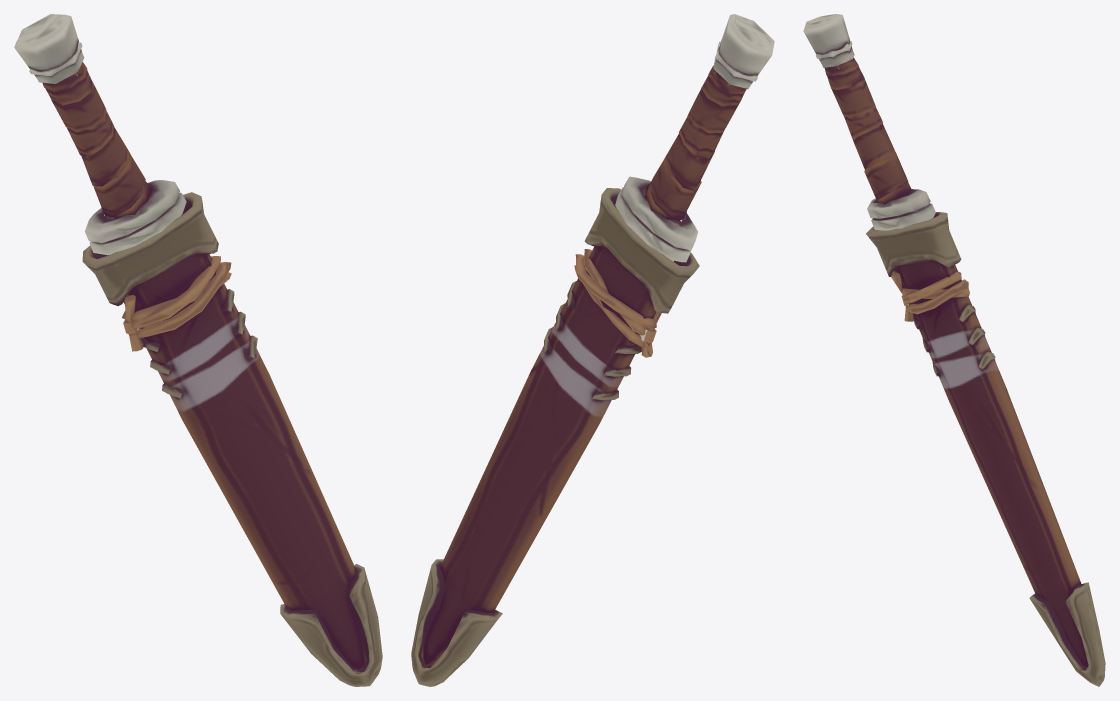
The model's file is Link_Sword.fbx.
3 views of the same model, side by side, from view 1: azimuth 30°, elevation 25°; view 2: azimuth 150°, elevation 25°; view 3: azimuth 330°, elevation 25° (orthographic). The views are drawn at different scales.
Parts seen in each view (by area): view 1: Travelers_sword_Travlers sword_0; view 2: Travelers_sword_Travlers sword_0; view 3: Travelers_sword_Travlers sword_0.
Boxes of the visible parts, x1,y1,x2,y2 form: Travelers_sword_Travlers sword_0: [14, 14, 382, 686]; Travelers_sword_Travlers sword_0: [411, 14, 774, 686]; Travelers_sword_Travlers sword_0: [803, 14, 1105, 686].
Bounding box in the file's own units: 0.3561 × 0.6973 × 0.0501.
